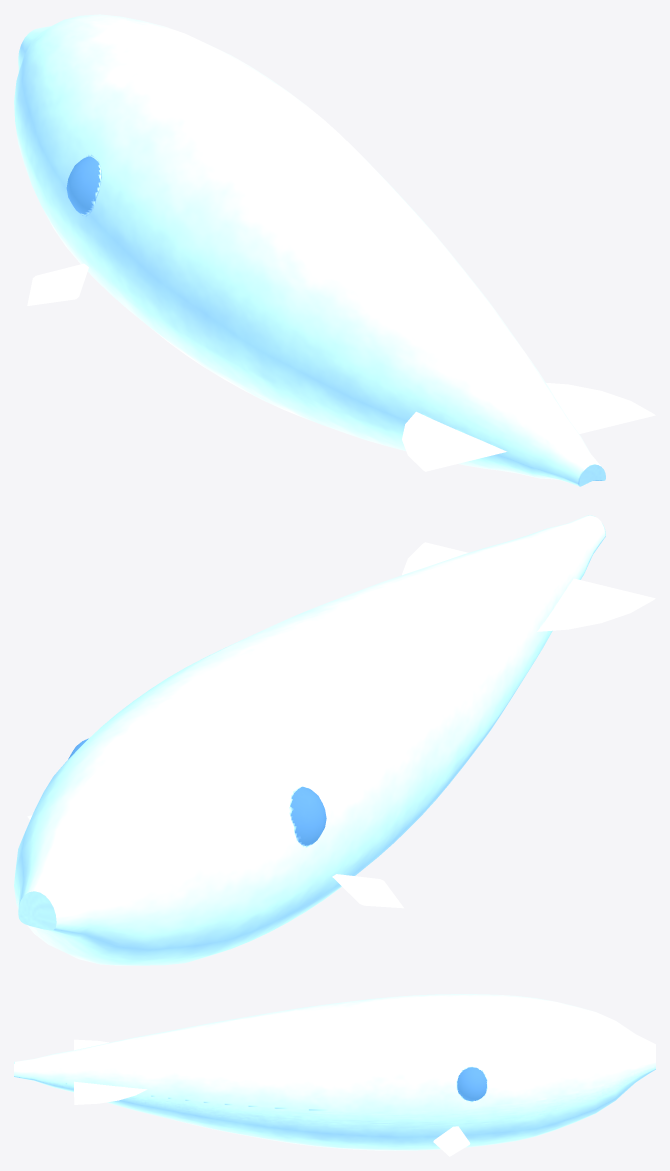
File: careproctus_rastrinus.glb
3 renders of one model, top to bottom at view 1: azimuth 30°, elevation 25°; view 2: azimuth 150°, elevation 25°; view 3: azimuth 270°, elevation 25°, orthographic. The views are drawn at different scales.
Visible parts, largest first — view 1: careproctus_rastrinus; view 2: careproctus_rastrinus; view 3: careproctus_rastrinus.
Part boxes in pixels (left/top/right/bottom): careproctus_rastrinus: left=14, top=14, right=655, bottom=486; careproctus_rastrinus: left=14, top=515, right=655, bottom=965; careproctus_rastrinus: left=14, top=994, right=655, bottom=1156.
Size of the model in its own units: 0.3923 by 0.2404 by 1.
2 materials, 2 textured.
